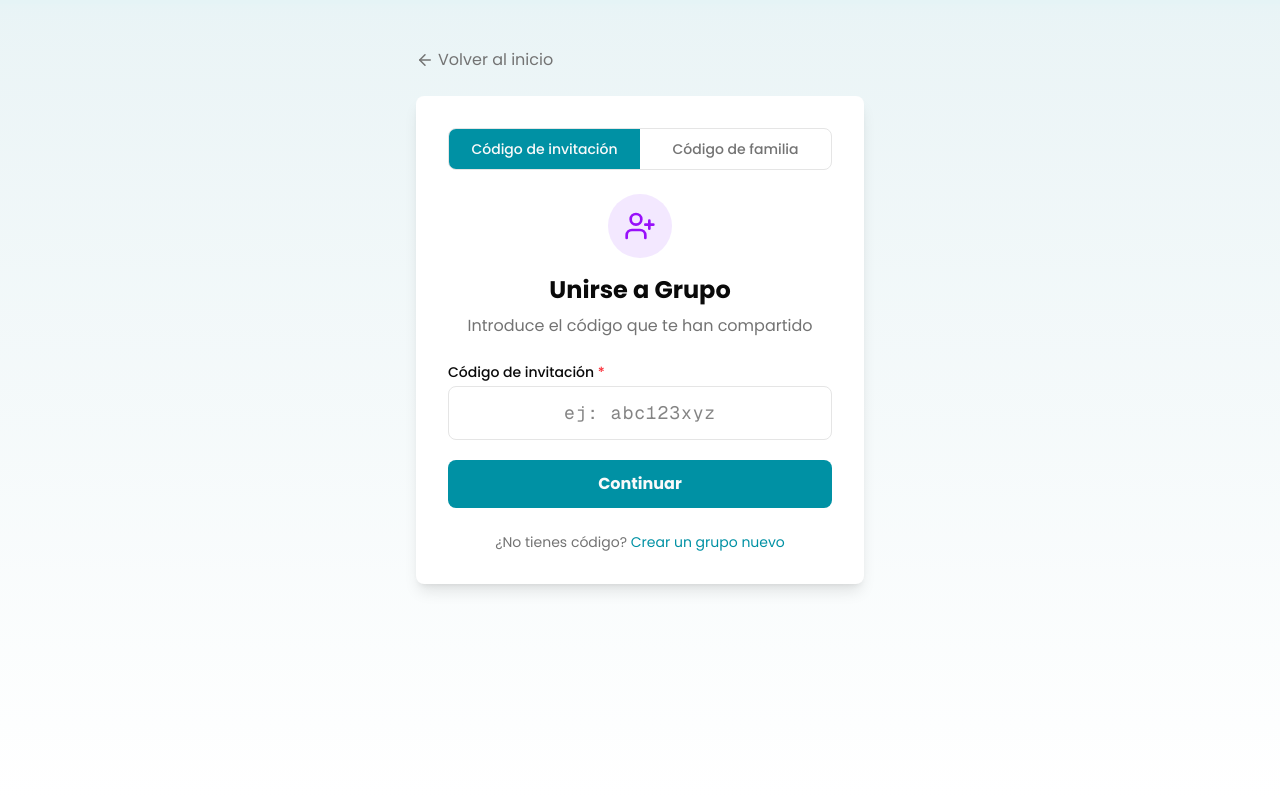
Test: JoinPage — invite tab (default) › shows error when invite code is empty
The width and height of the screenshot is (1280, 800).
Click the button "Continuar" at (640, 484), box [448,460,832,508]
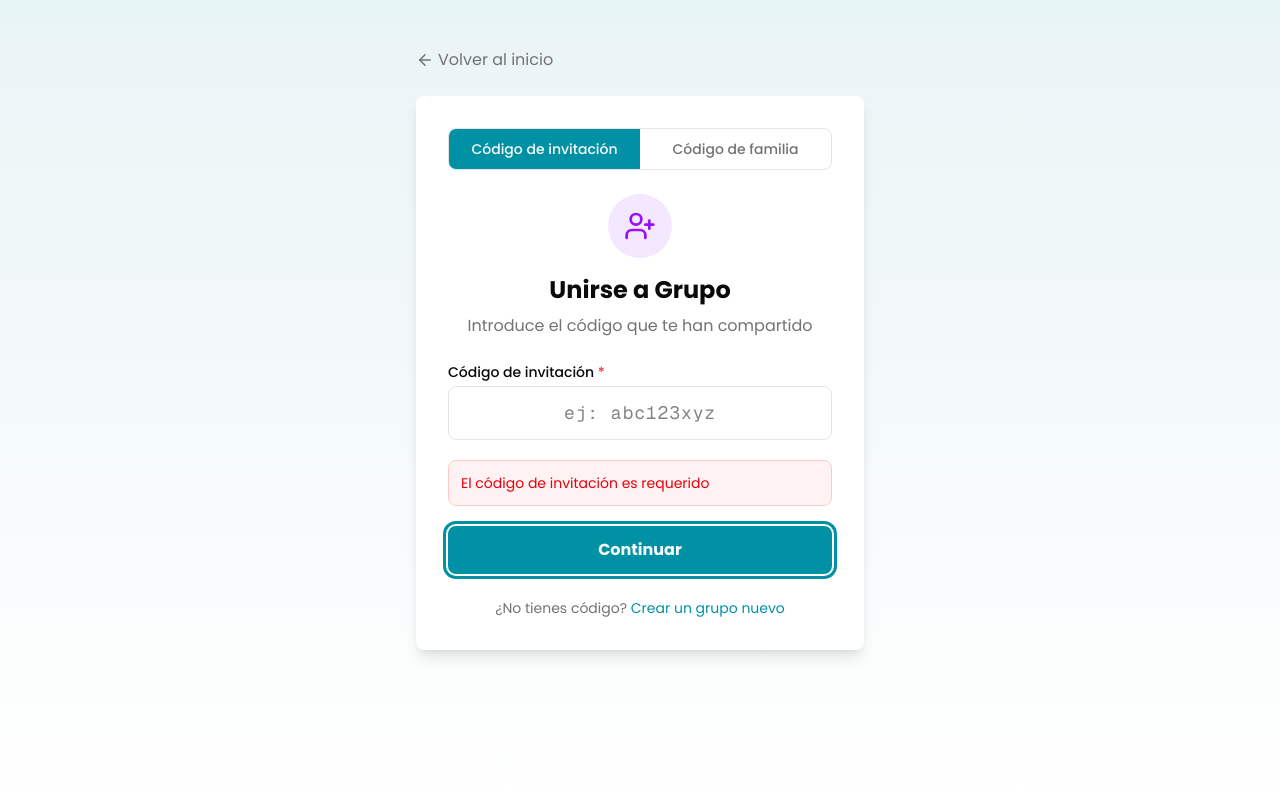
Check: the text "El código de invitación es requerido" is shown, box [448,460,832,506]
